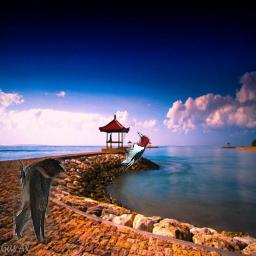Swallow: (13, 158, 65, 244)
Woodpecker: (118, 131, 151, 173)
